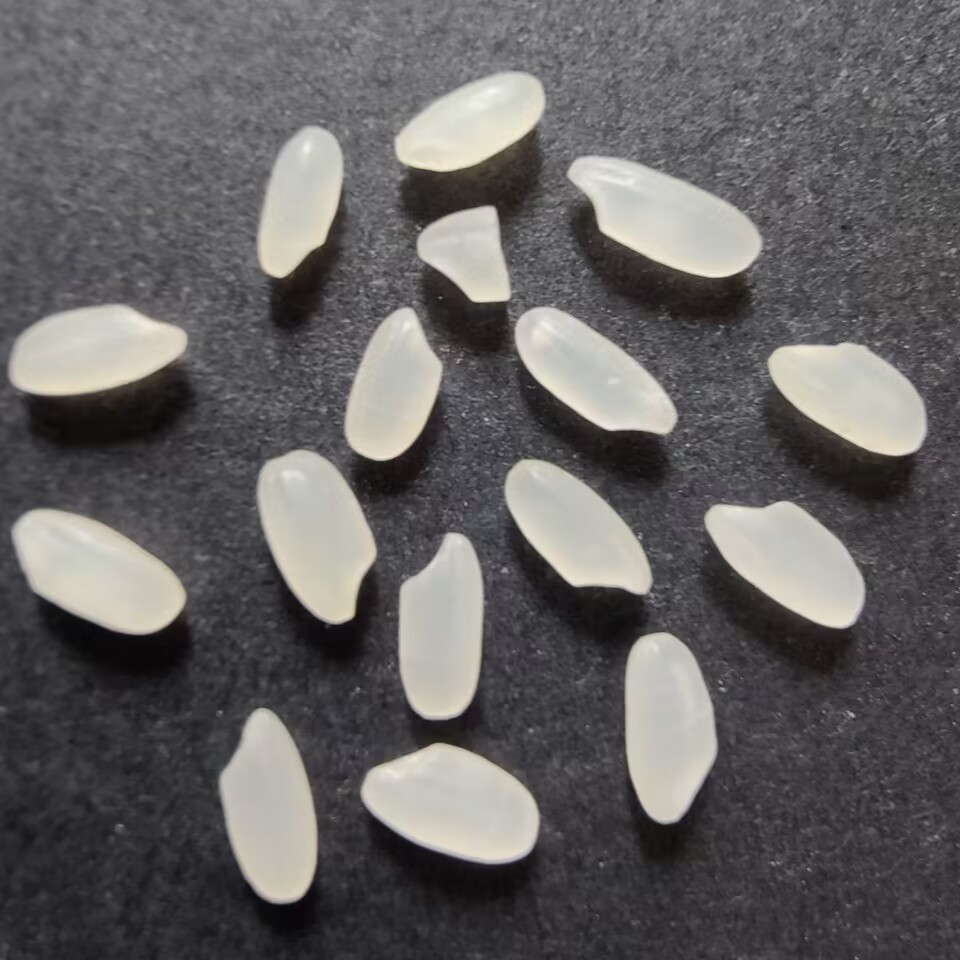broken: (413, 201, 513, 306)
rice: (557, 150, 769, 279), (3, 501, 191, 636), (353, 736, 545, 868), (702, 495, 875, 638), (511, 303, 685, 444), (254, 447, 382, 631), (764, 334, 934, 468), (500, 454, 656, 600), (213, 705, 323, 907), (620, 627, 725, 829), (392, 524, 488, 725), (4, 297, 194, 395), (389, 67, 552, 179), (341, 301, 442, 461), (252, 117, 345, 282)
